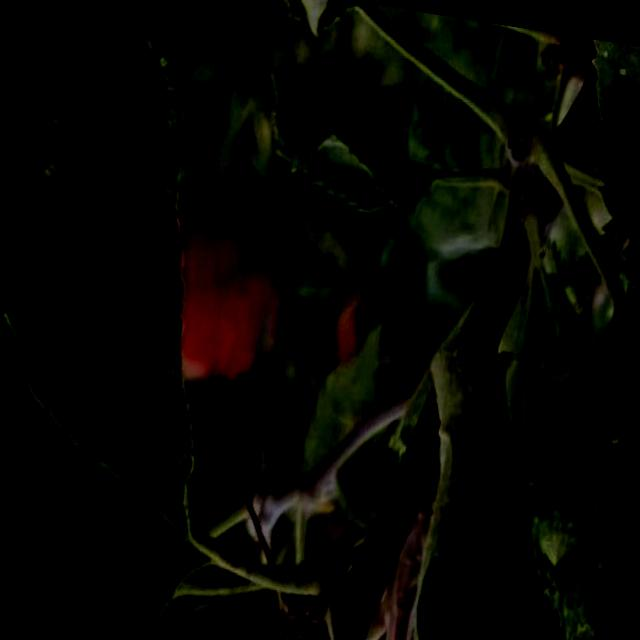Apple: (154, 174, 302, 392)
